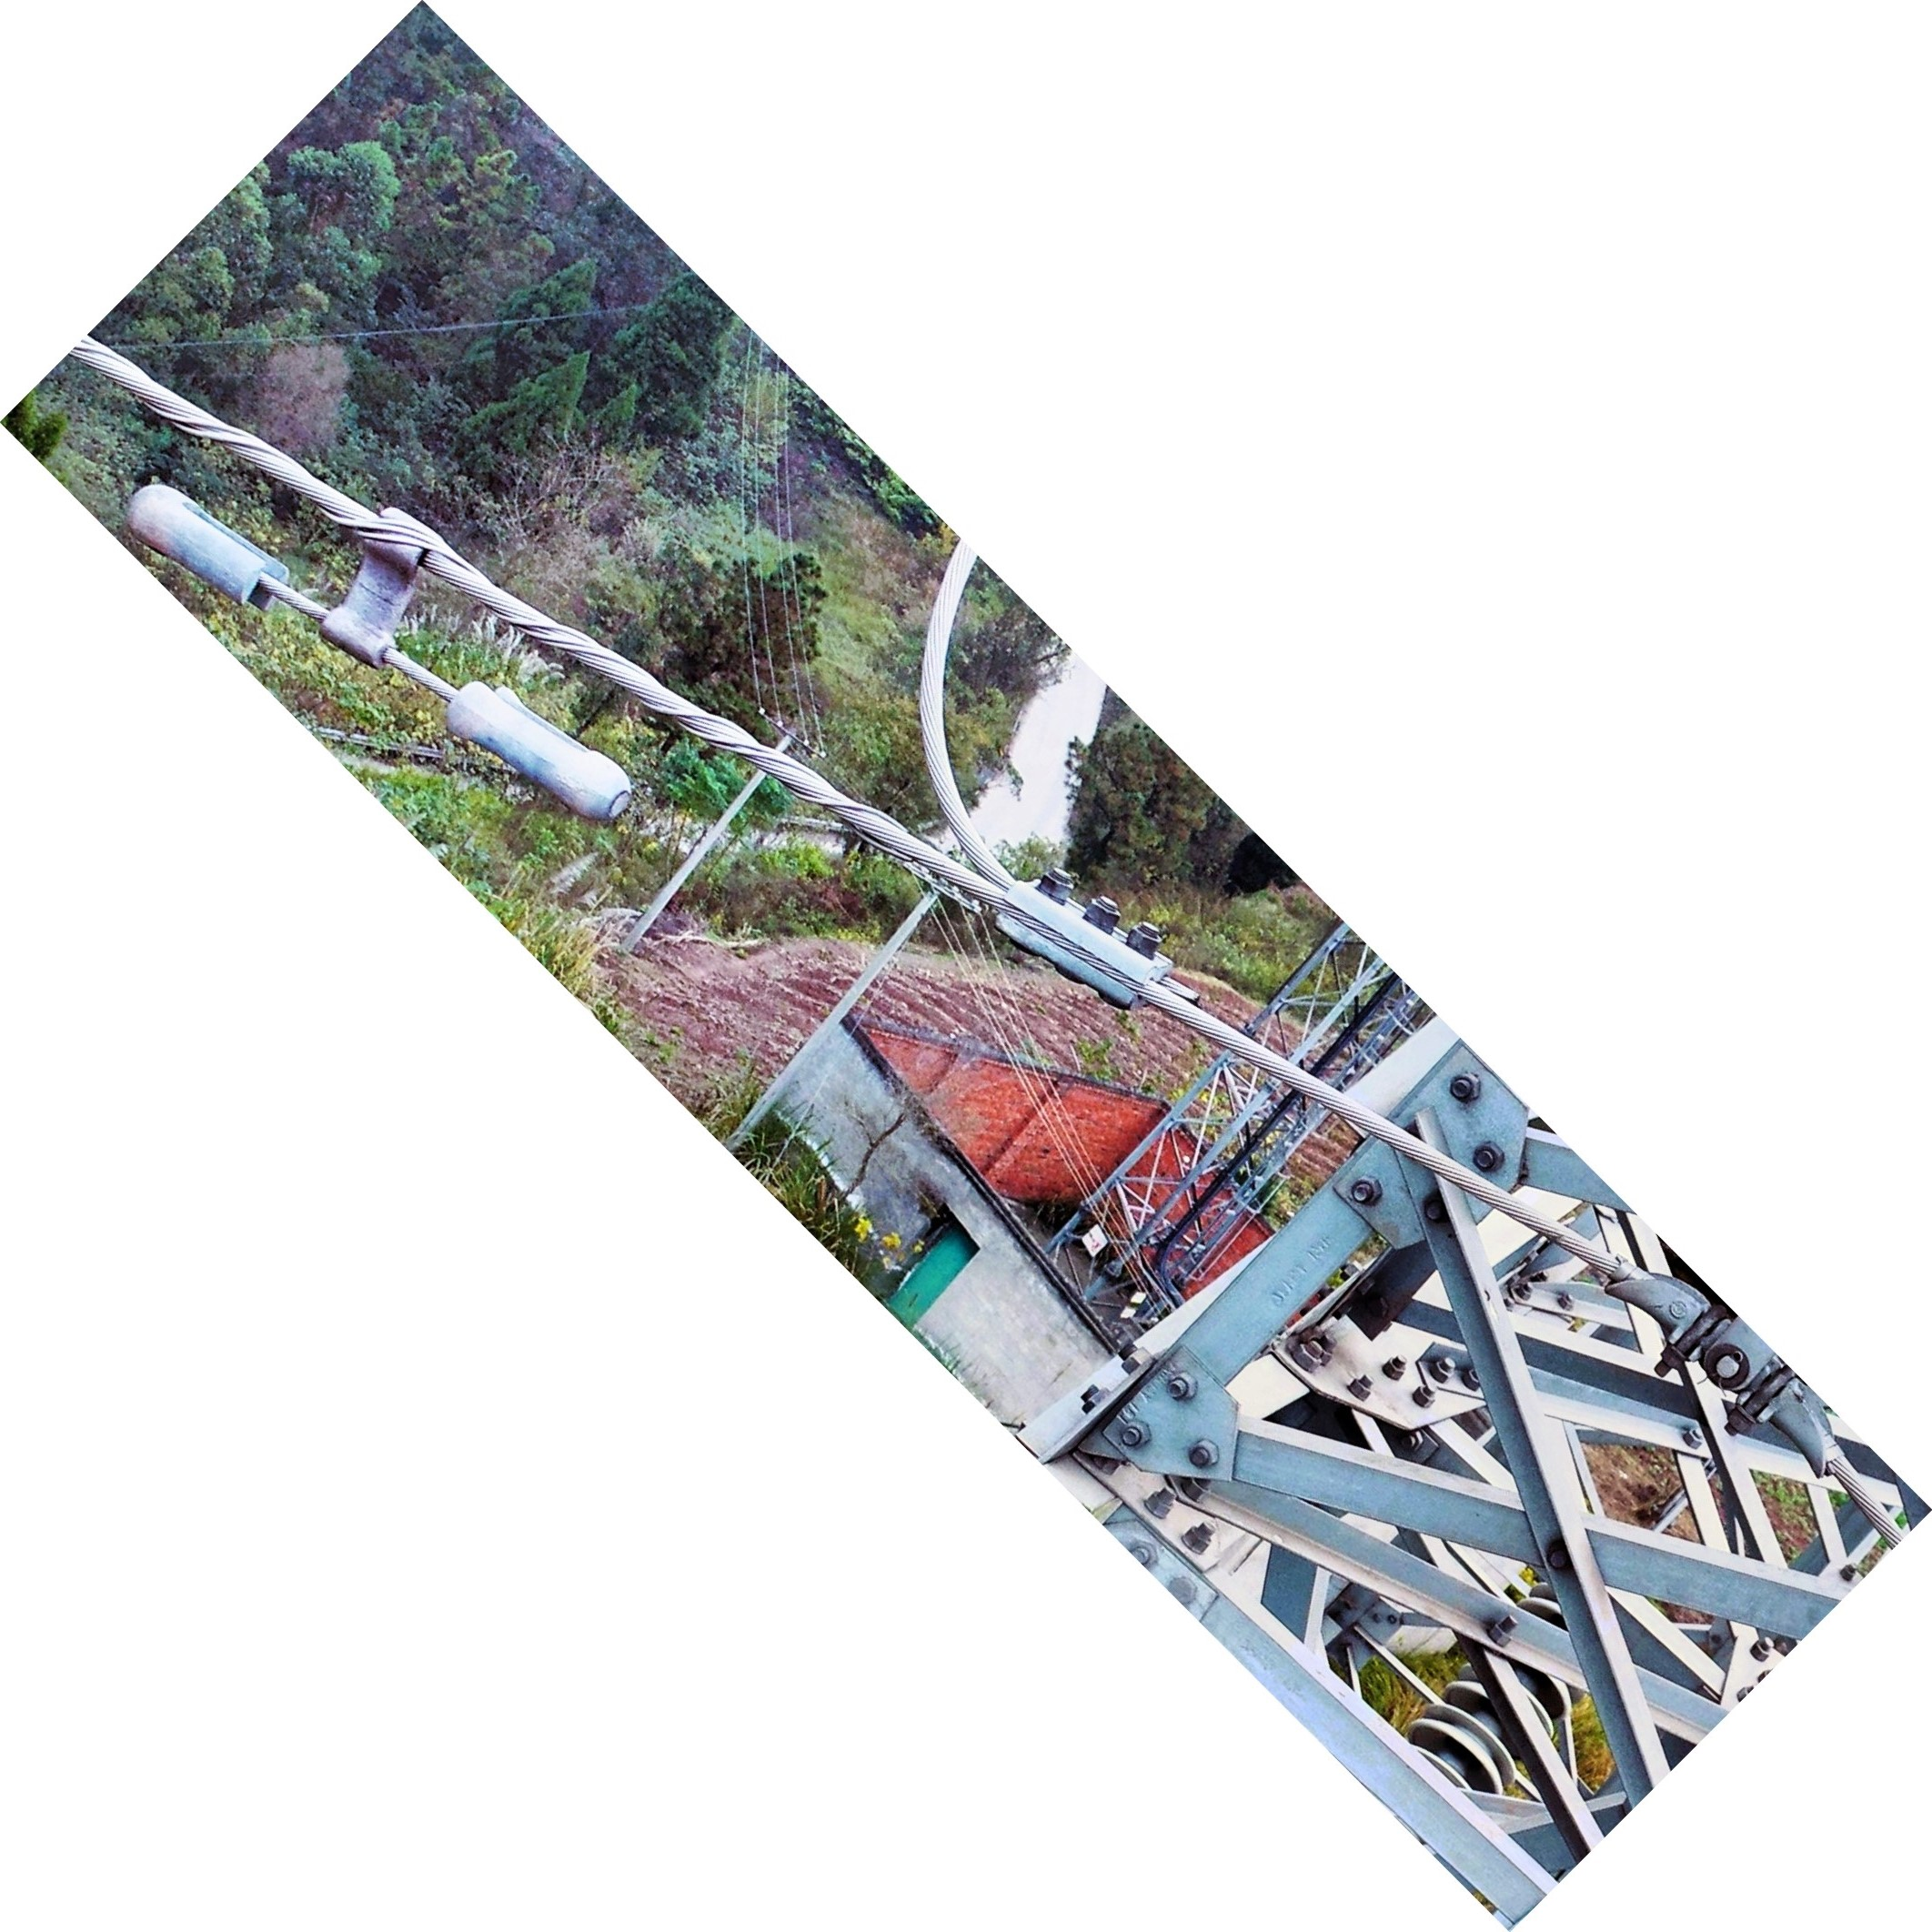Shockproof hammer: (117, 421, 656, 833)
